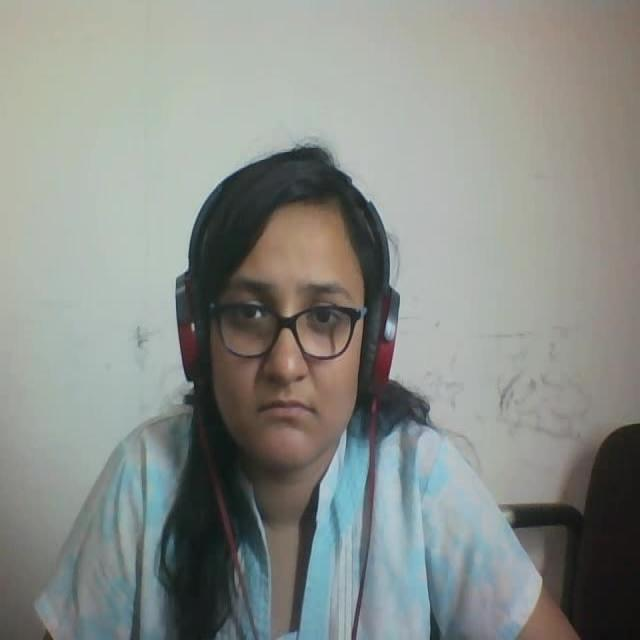Engaged: (162, 127, 446, 504)
